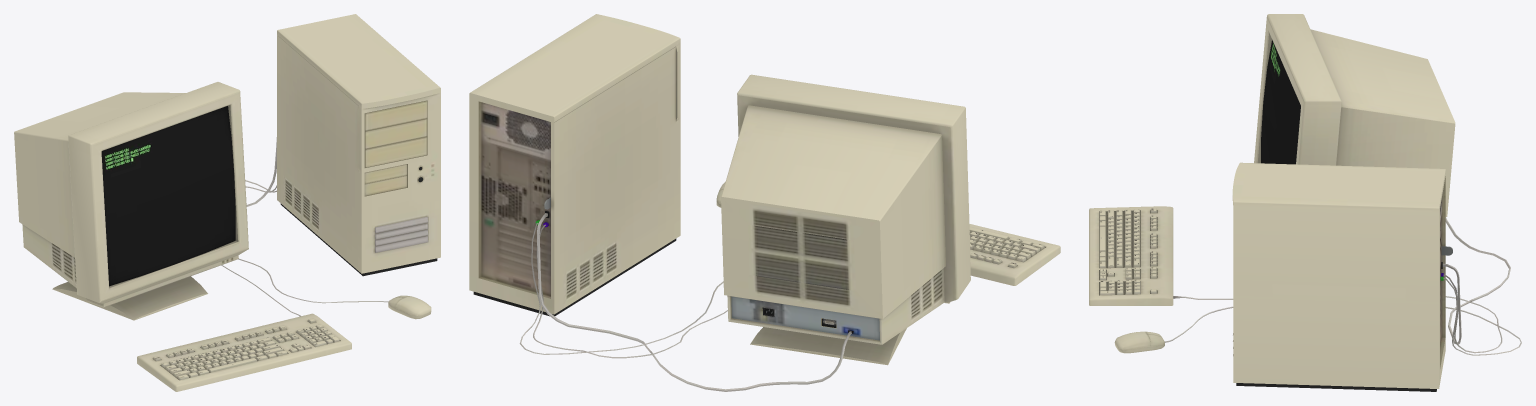
File: obj_retro_pc_setup.glb
3 views of the same model, side by side, from view 1: azimuth 30°, elevation 25°; view 2: azimuth 150°, elevation 25°; view 3: azimuth 270°, elevation 25° (orthographic). The views are drawn at different scales.
Visible parts, largest first — view 1: retro_computer_setup; view 2: retro_computer_setup; view 3: retro_computer_setup.
Boxes of the visible parts, x1,y1,x2,y2 form: retro_computer_setup: [14, 14, 440, 391]; retro_computer_setup: [469, 14, 1060, 391]; retro_computer_setup: [1089, 14, 1521, 391].
Size of the model in its own units: 96.81 by 49.28 by 96.94.
1 material, 1 textured.
